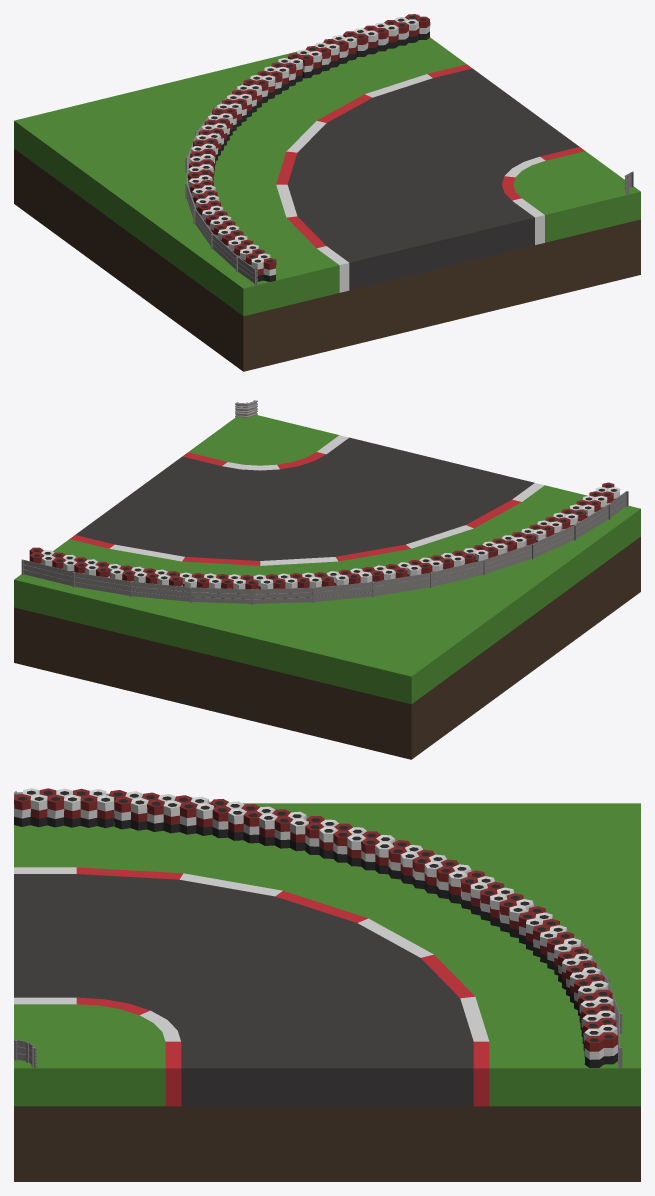
File: tiles-tile-race-track-curve.glb
3 renders of one model, top to bottom at view 1: azimuth 30°, elevation 25°; view 2: azimuth 150°, elevation 25°; view 3: azimuth 270°, elevation 25°, orthographic. The views are drawn at different scales.
Visible parts, largest first — view 1: tile-race-track-curve; view 2: tile-race-track-curve; view 3: tile-race-track-curve.
Part boxes in pixels (left/top/right/bottom): tile-race-track-curve: left=14, top=14, right=640, bottom=371; tile-race-track-curve: left=14, top=400, right=640, bottom=759; tile-race-track-curve: left=14, top=788, right=640, bottom=1181.
Bounding box in the file's own units: 30 × 7.32 × 30.
